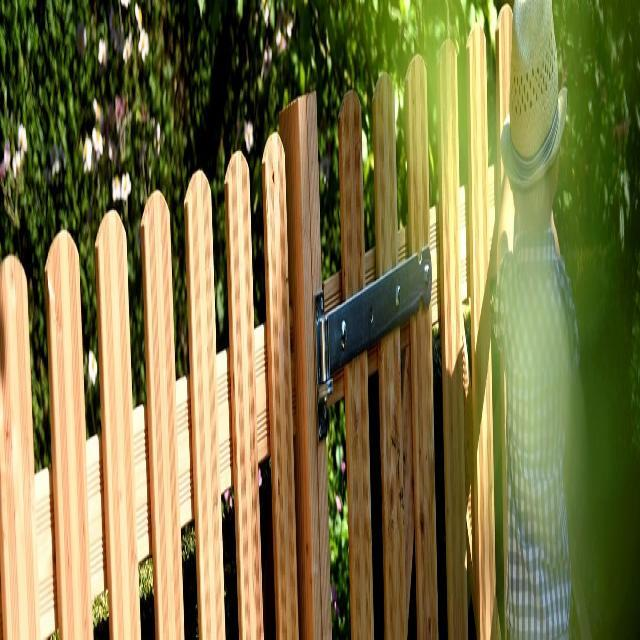fence line: (5, 215, 367, 640), (274, 37, 524, 640)
